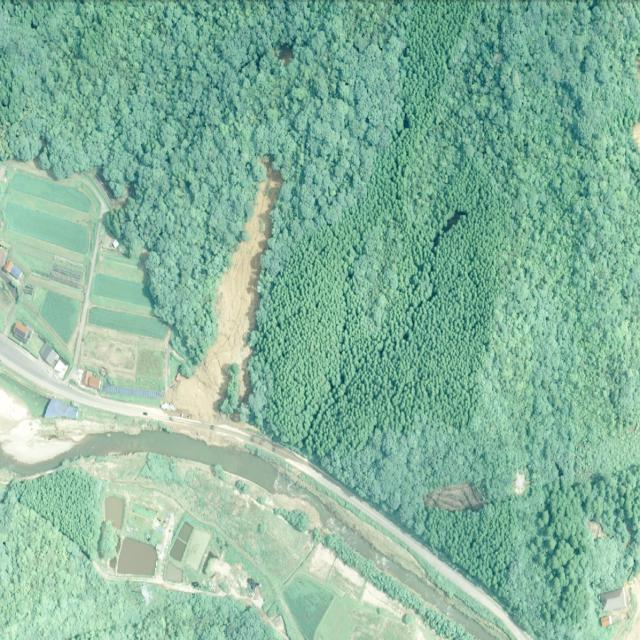landslide: (165, 163, 282, 425)
